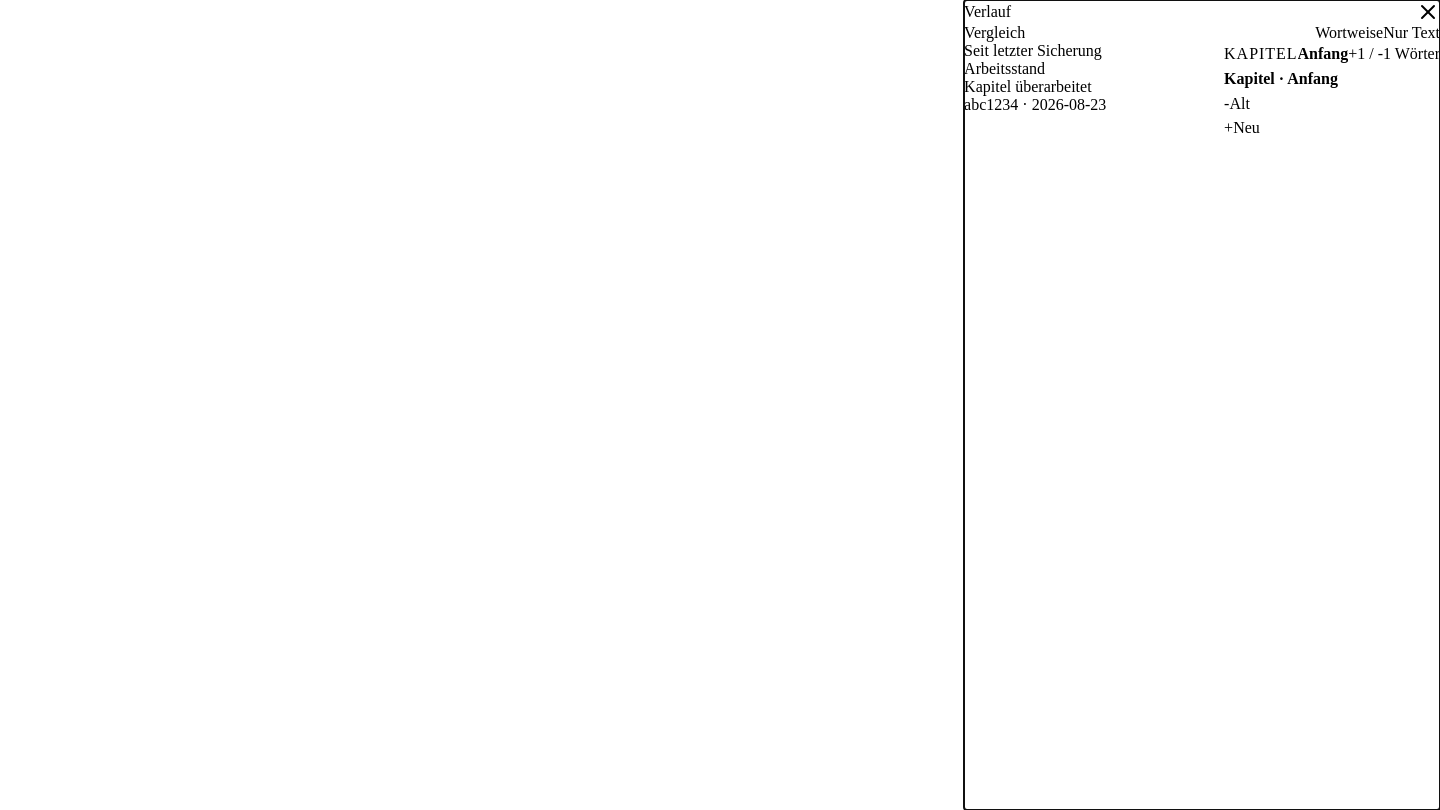
Scenario: HistoryDialog › expands and collapses a diff segment
This screenshot has width=1440, height=810.
Expected: the heading "Kapitel · Anfang" is shown, [1224, 70, 1338, 87]
Step 1. Click the button "Kapitel Anfang +1 / -1 Wörter" → (1332, 54), box [1224, 42, 1439, 67]
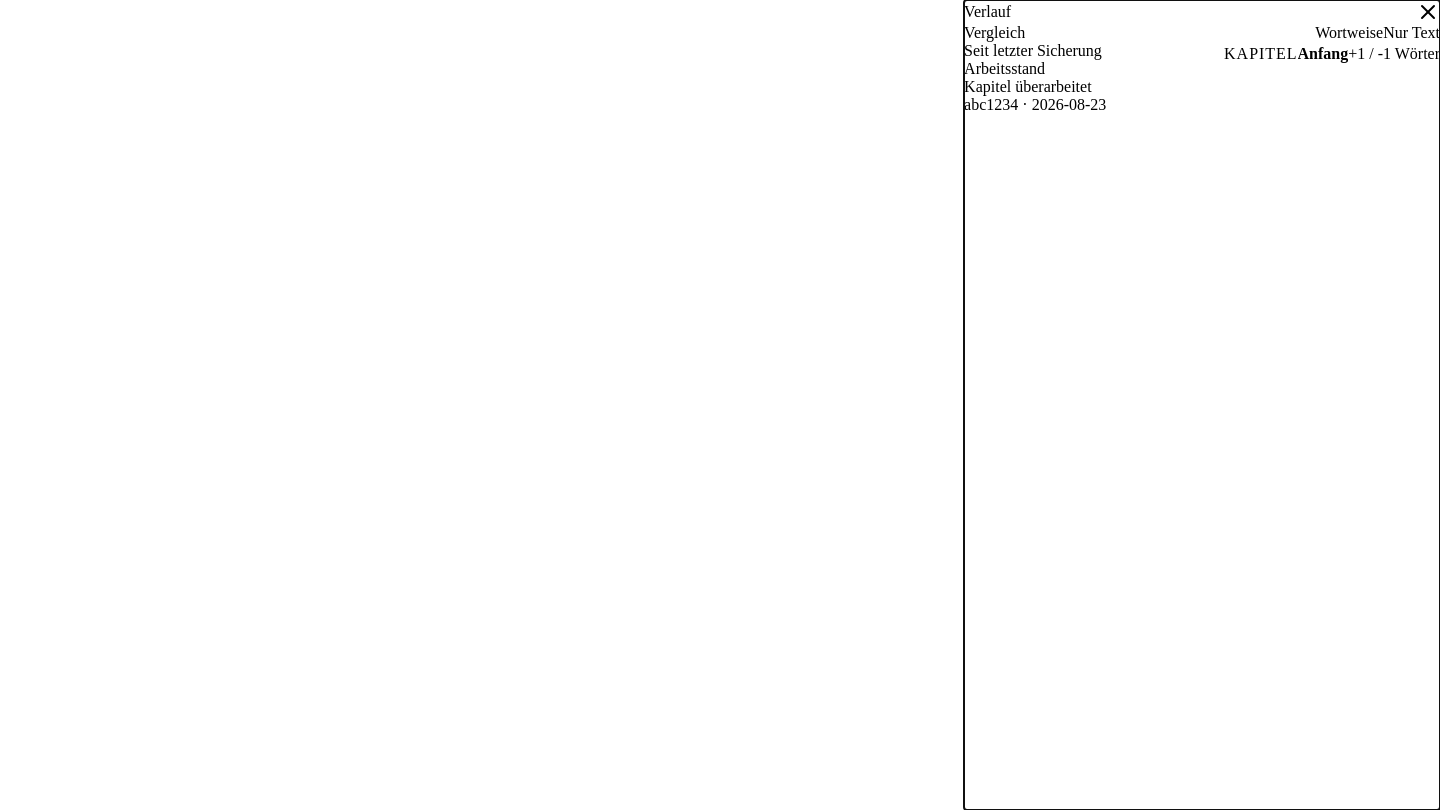
Now the heading "Kapitel · Anfang" is gone
Step 2. Click the button "Kapitel Anfang +1 / -1 Wörter" → (1332, 54), box [1224, 42, 1439, 67]
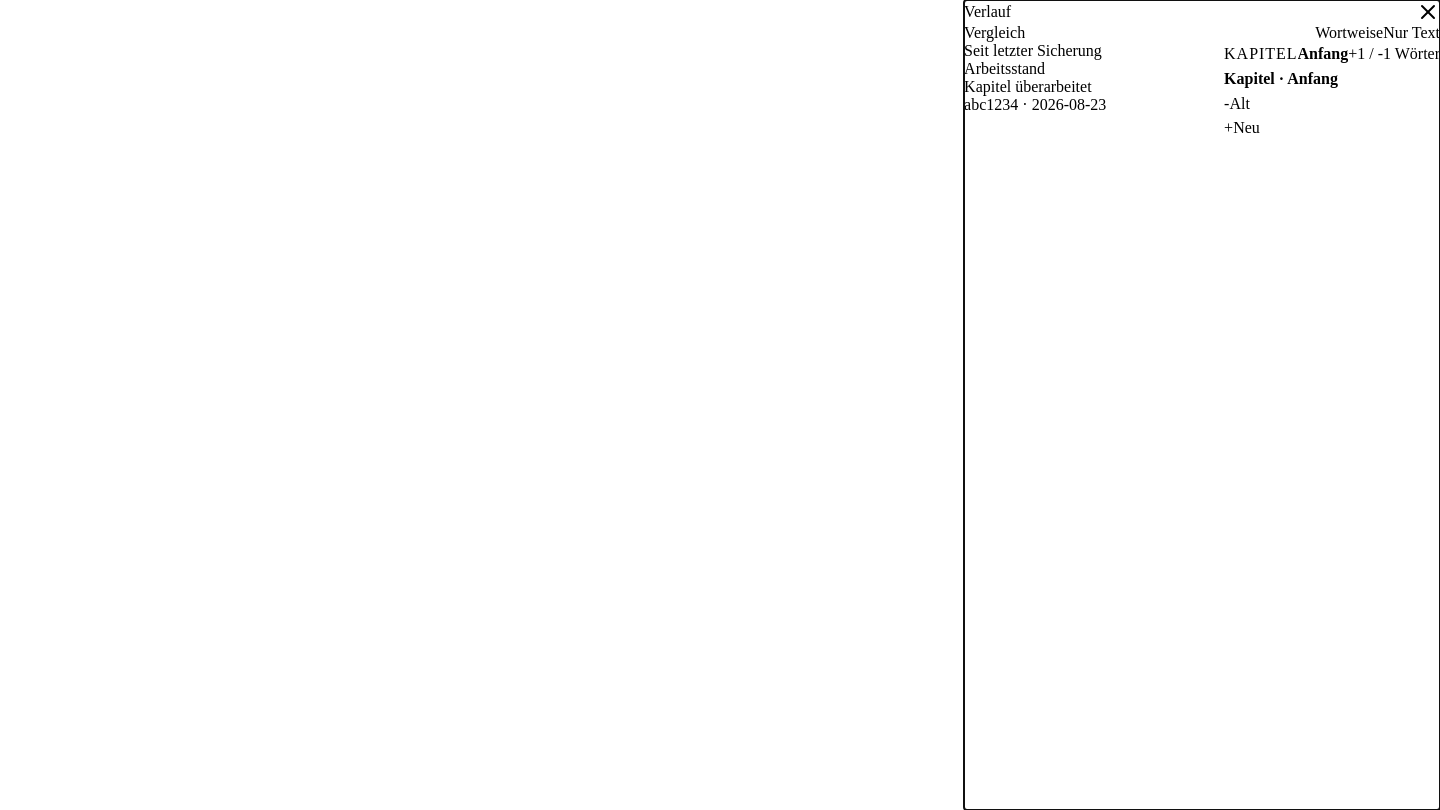
Now the heading "Kapitel · Anfang" is shown, box [1224, 70, 1338, 87]
